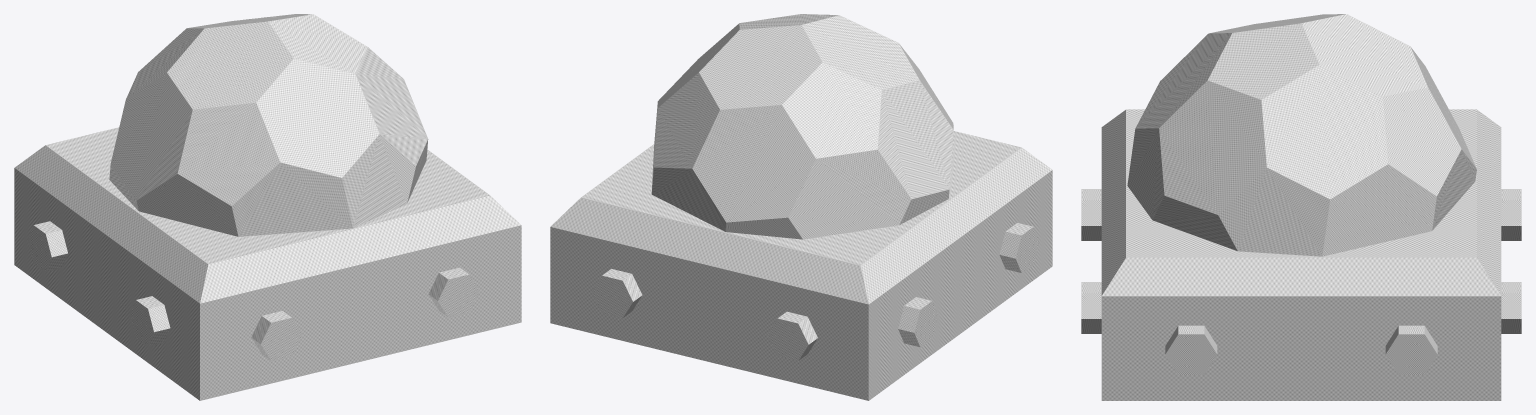
The model's file is RadarDome.dae.
3 renders of one model, left to right at view 1: azimuth 30°, elevation 25°; view 2: azimuth 150°, elevation 25°; view 3: azimuth 270°, elevation 25°, orthographic. The views are drawn at different scales.
Parts seen in each view (by area): view 1: RadarDome; view 2: RadarDome; view 3: RadarDome.
Boxes of the visible parts, left/top/right/bottom form: RadarDome: left=14, top=14, right=521, bottom=400; RadarDome: left=550, top=14, right=1052, bottom=400; RadarDome: left=1081, top=14, right=1521, bottom=400.
Size of the model in its own units: 2 by 1.47 by 2.
